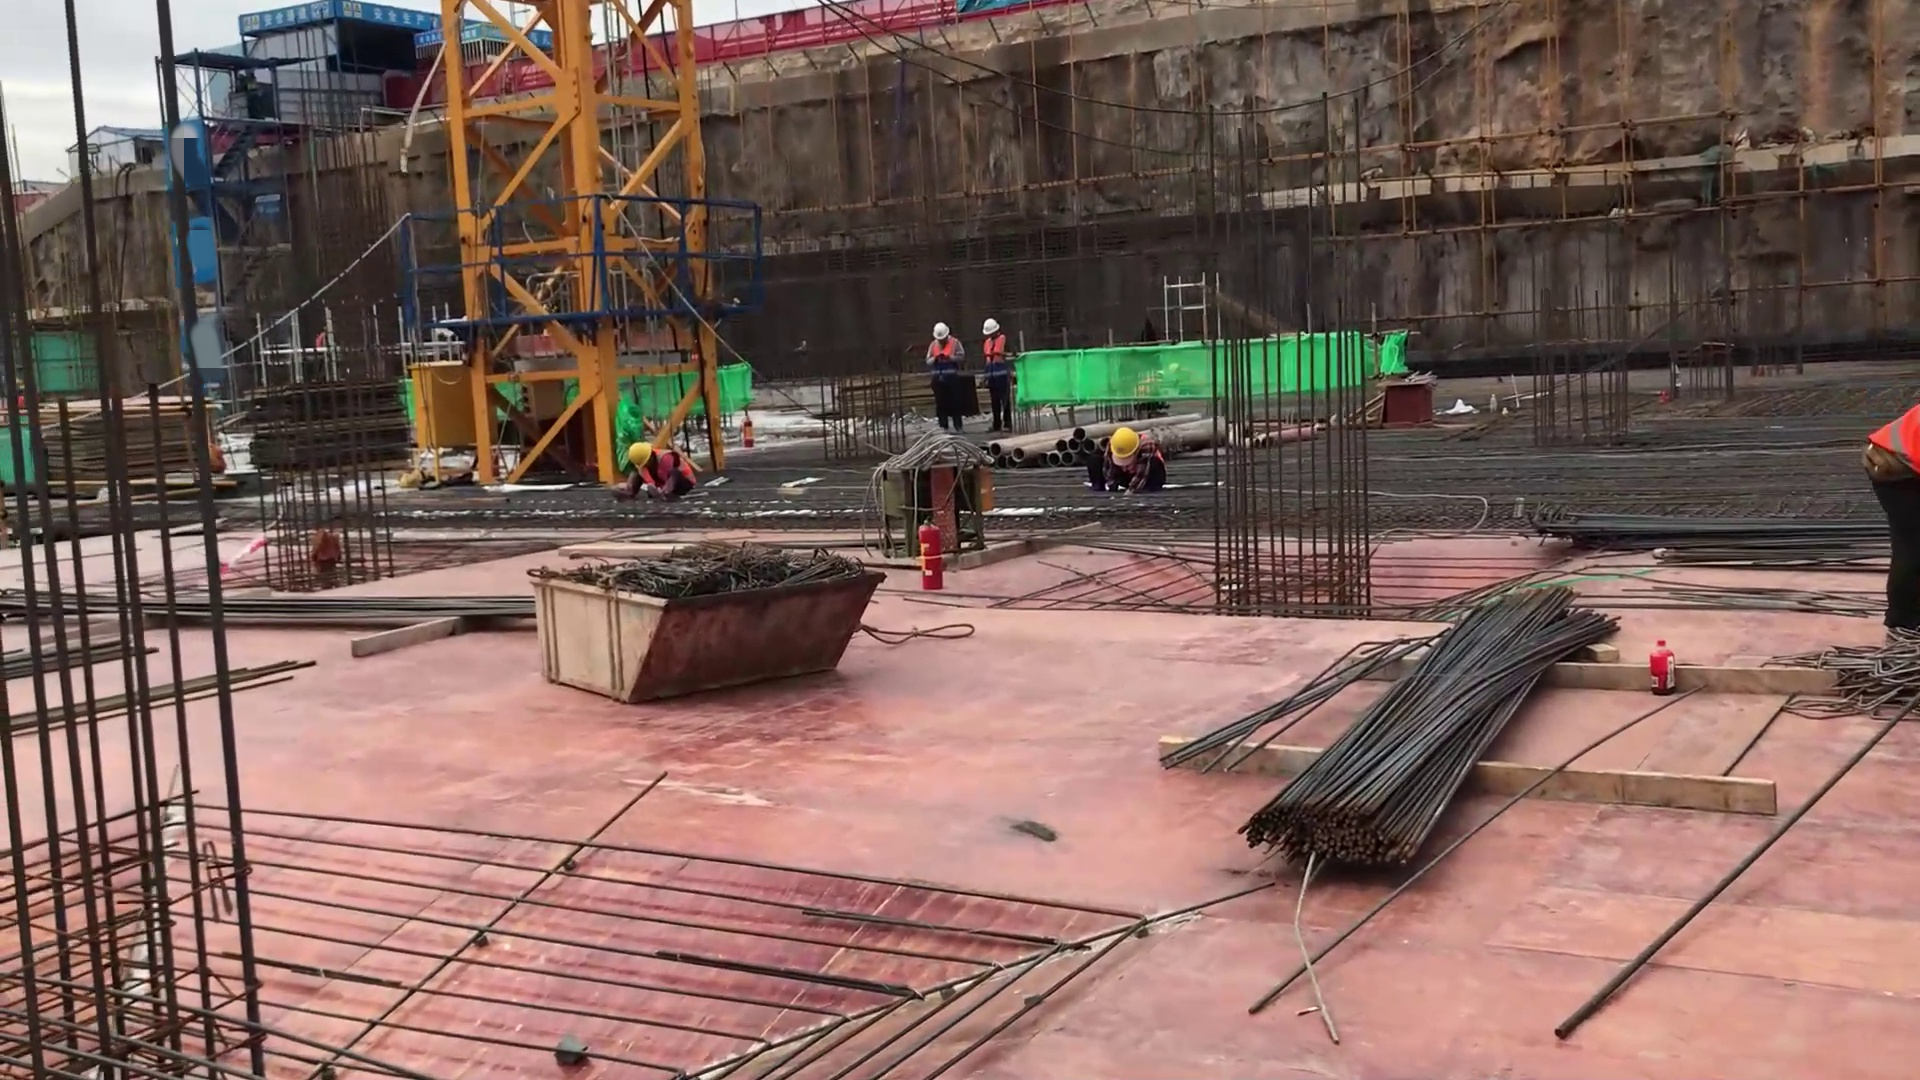helmet: (1110, 426, 1139, 458), (627, 443, 653, 469), (982, 319, 1000, 335), (933, 322, 949, 339)
person: (1863, 398, 1920, 628), (1085, 426, 1170, 495), (923, 320, 967, 436), (613, 442, 696, 502), (980, 317, 1013, 434)
vest: (1868, 401, 1920, 476), (640, 453, 696, 492), (985, 336, 1007, 385), (933, 337, 955, 386)
